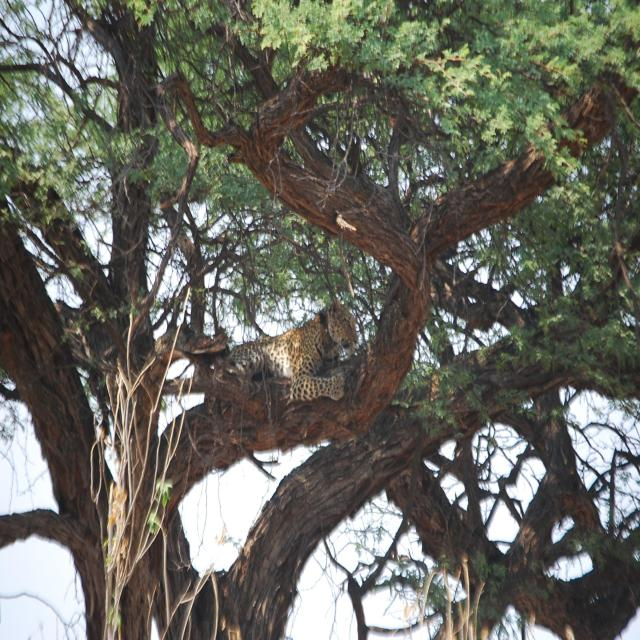Leopard: (218, 292, 364, 405)
